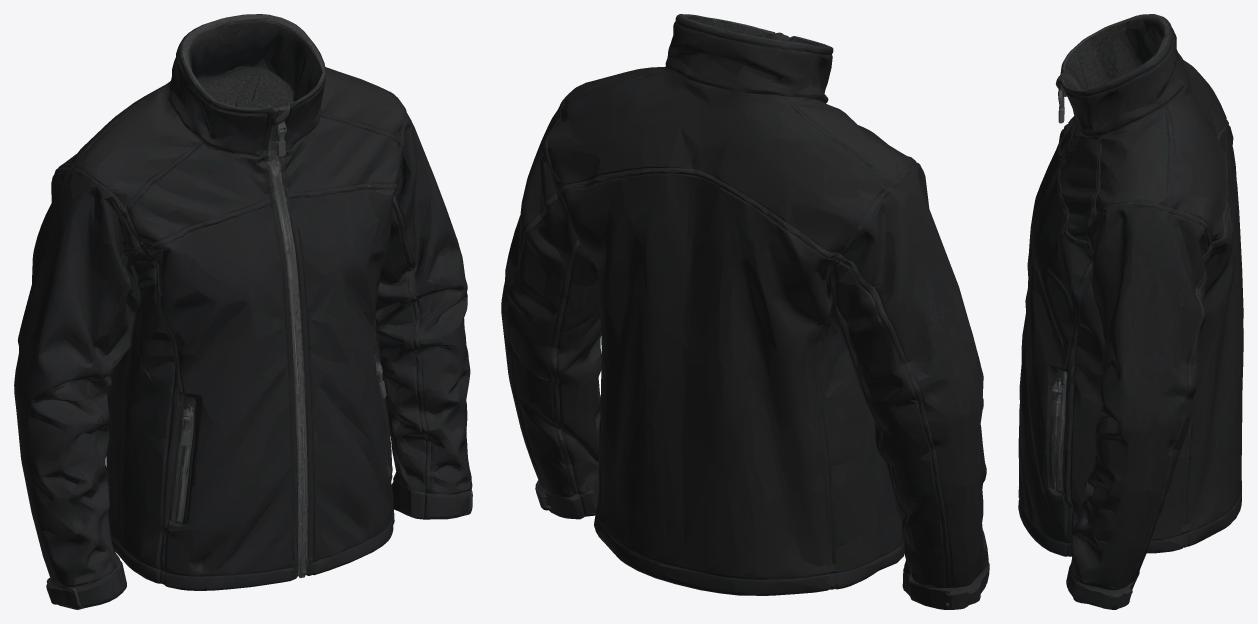
The model's file is DEMO-P006.glb.
3 renders of one model, left to right at view 1: azimuth 30°, elevation 25°; view 2: azimuth 150°, elevation 25°; view 3: azimuth 270°, elevation 25°, orthographic. The views are drawn at different scales.
Size of the model in its own units: 1.69 by 1.9 by 0.7943.
1 material, 1 textured.
